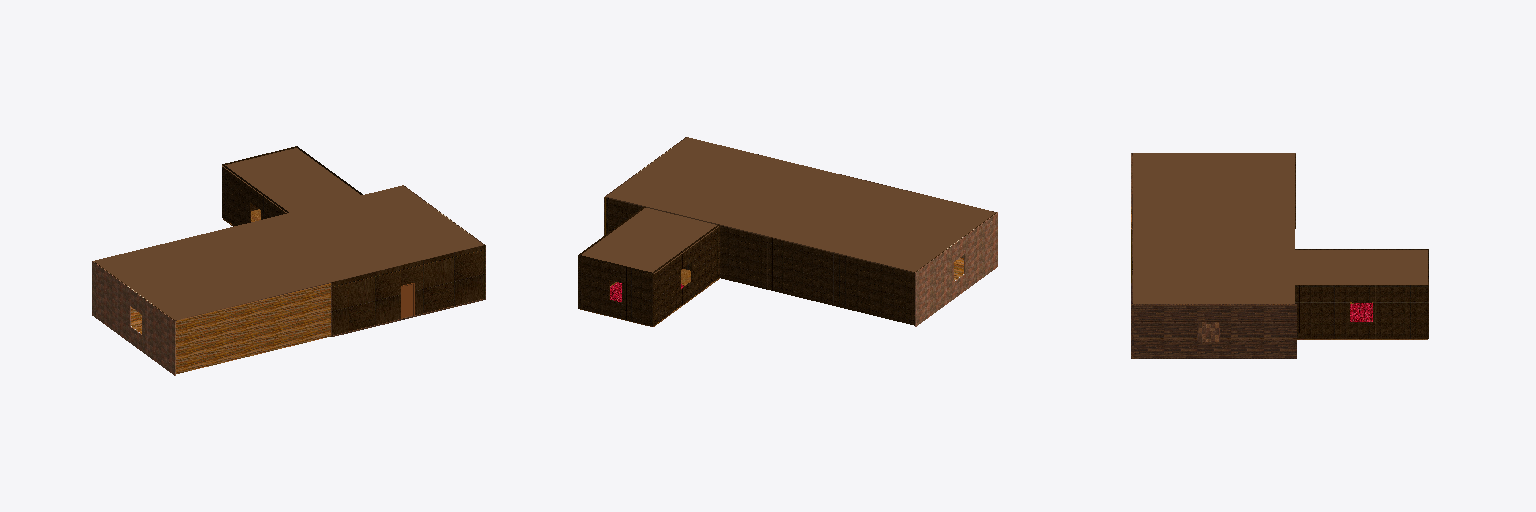
3 views of the same model, side by side, from view 1: azimuth 30°, elevation 25°; view 2: azimuth 150°, elevation 25°; view 3: azimuth 270°, elevation 25° (orthographic).
Parts seen in each view (by area): view 1: Mesh24 Group9 Model, Mesh10 G_3DGeom_58 Object_40 Model, Mesh49 Model, Mesh18 G_3DGeom_55 Object_38 Group4 Model, Mesh14 G_3DGeom_52 Object_37 Group4 Model, Mesh22 Group7 Model; view 2: Mesh24 Group9 Model, Mesh41 Model, Mesh49 Model, Mesh23 Group8 Model, Mesh22 Group7 Model, Mesh30 Group11 Model, Mesh32 Group11 Model; view 3: Mesh24 Group9 Model, Mesh21 Group6 Model, Mesh49 Model, Mesh19 Group5 Model.
Boxes of the visible parts, x1=… form: Mesh24 Group9 Model: x1=92, y1=185, x2=485, y2=375; Mesh10 G_3DGeom_58 Object_40 Model: x1=176, y1=283, x2=330, y2=373; Mesh49 Model: x1=222, y1=147, x2=361, y2=217; Mesh18 G_3DGeom_55 Object_38 Group4 Model: x1=401, y1=246, x2=483, y2=314; Mesh14 G_3DGeom_52 Object_37 Group4 Model: x1=331, y1=266, x2=400, y2=335; Mesh22 Group7 Model: x1=223, y1=167, x2=286, y2=225; Mesh24 Group9 Model: x1=604, y1=137, x2=997, y2=326; Mesh41 Model: x1=760, y1=236, x2=914, y2=325; Mesh49 Model: x1=580, y1=207, x2=719, y2=290; Mesh23 Group8 Model: x1=578, y1=255, x2=652, y2=326; Mesh22 Group7 Model: x1=653, y1=226, x2=719, y2=325; Mesh30 Group11 Model: x1=683, y1=226, x2=760, y2=287; Mesh32 Group11 Model: x1=606, y1=198, x2=642, y2=233; Mesh24 Group9 Model: x1=1131, y1=153, x2=1296, y2=358; Mesh21 Group6 Model: x1=1295, y1=285, x2=1428, y2=338; Mesh49 Model: x1=1295, y1=249, x2=1428, y2=284; Mesh19 Group5 Model: x1=1131, y1=283, x2=1293, y2=358.
Bounding box in the file's own units: 3078 × 515 × 2549.
13 materials, 11 textured.